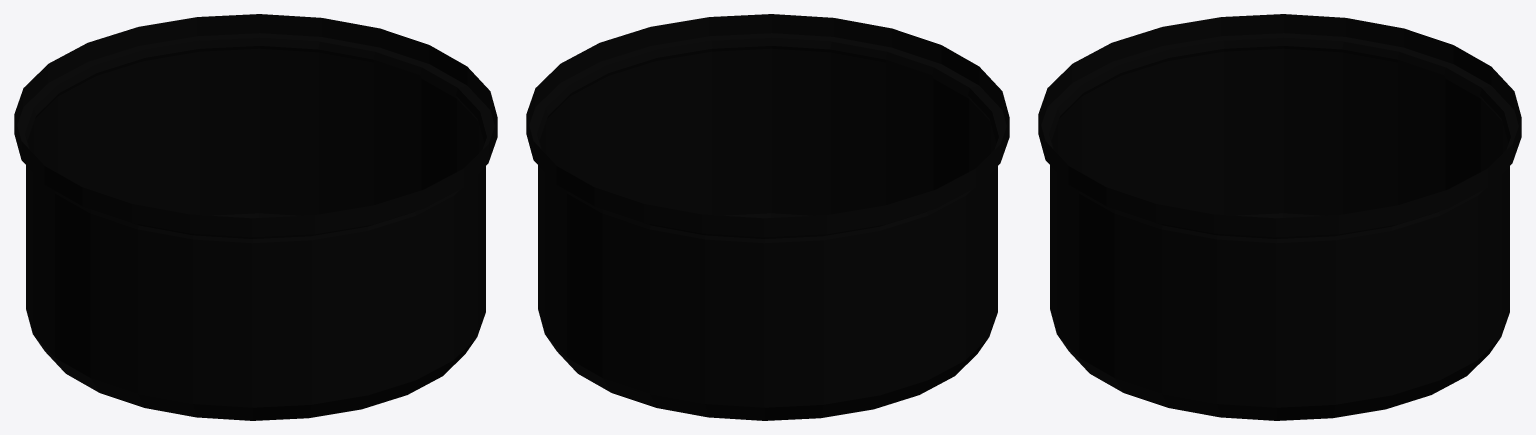
The model's file is mesh16.dat.obj.
3 renders of one model, left to right at view 1: azimuth 30°, elevation 25°; view 2: azimuth 150°, elevation 25°; view 3: azimuth 270°, elevation 25°, orthographic.
Parts seen in each view (by area): view 1: Metal_Bowl_low; view 2: Metal_Bowl_low; view 3: Metal_Bowl_low.
Boxes of the visible parts, x1,y1,x2,y2 form: Metal_Bowl_low: (14, 14, 497, 420); Metal_Bowl_low: (526, 14, 1009, 420); Metal_Bowl_low: (1038, 14, 1521, 420).
Size of the model in its own units: 3.42 by 1.66 by 3.42.
1 material, 1 textured.
